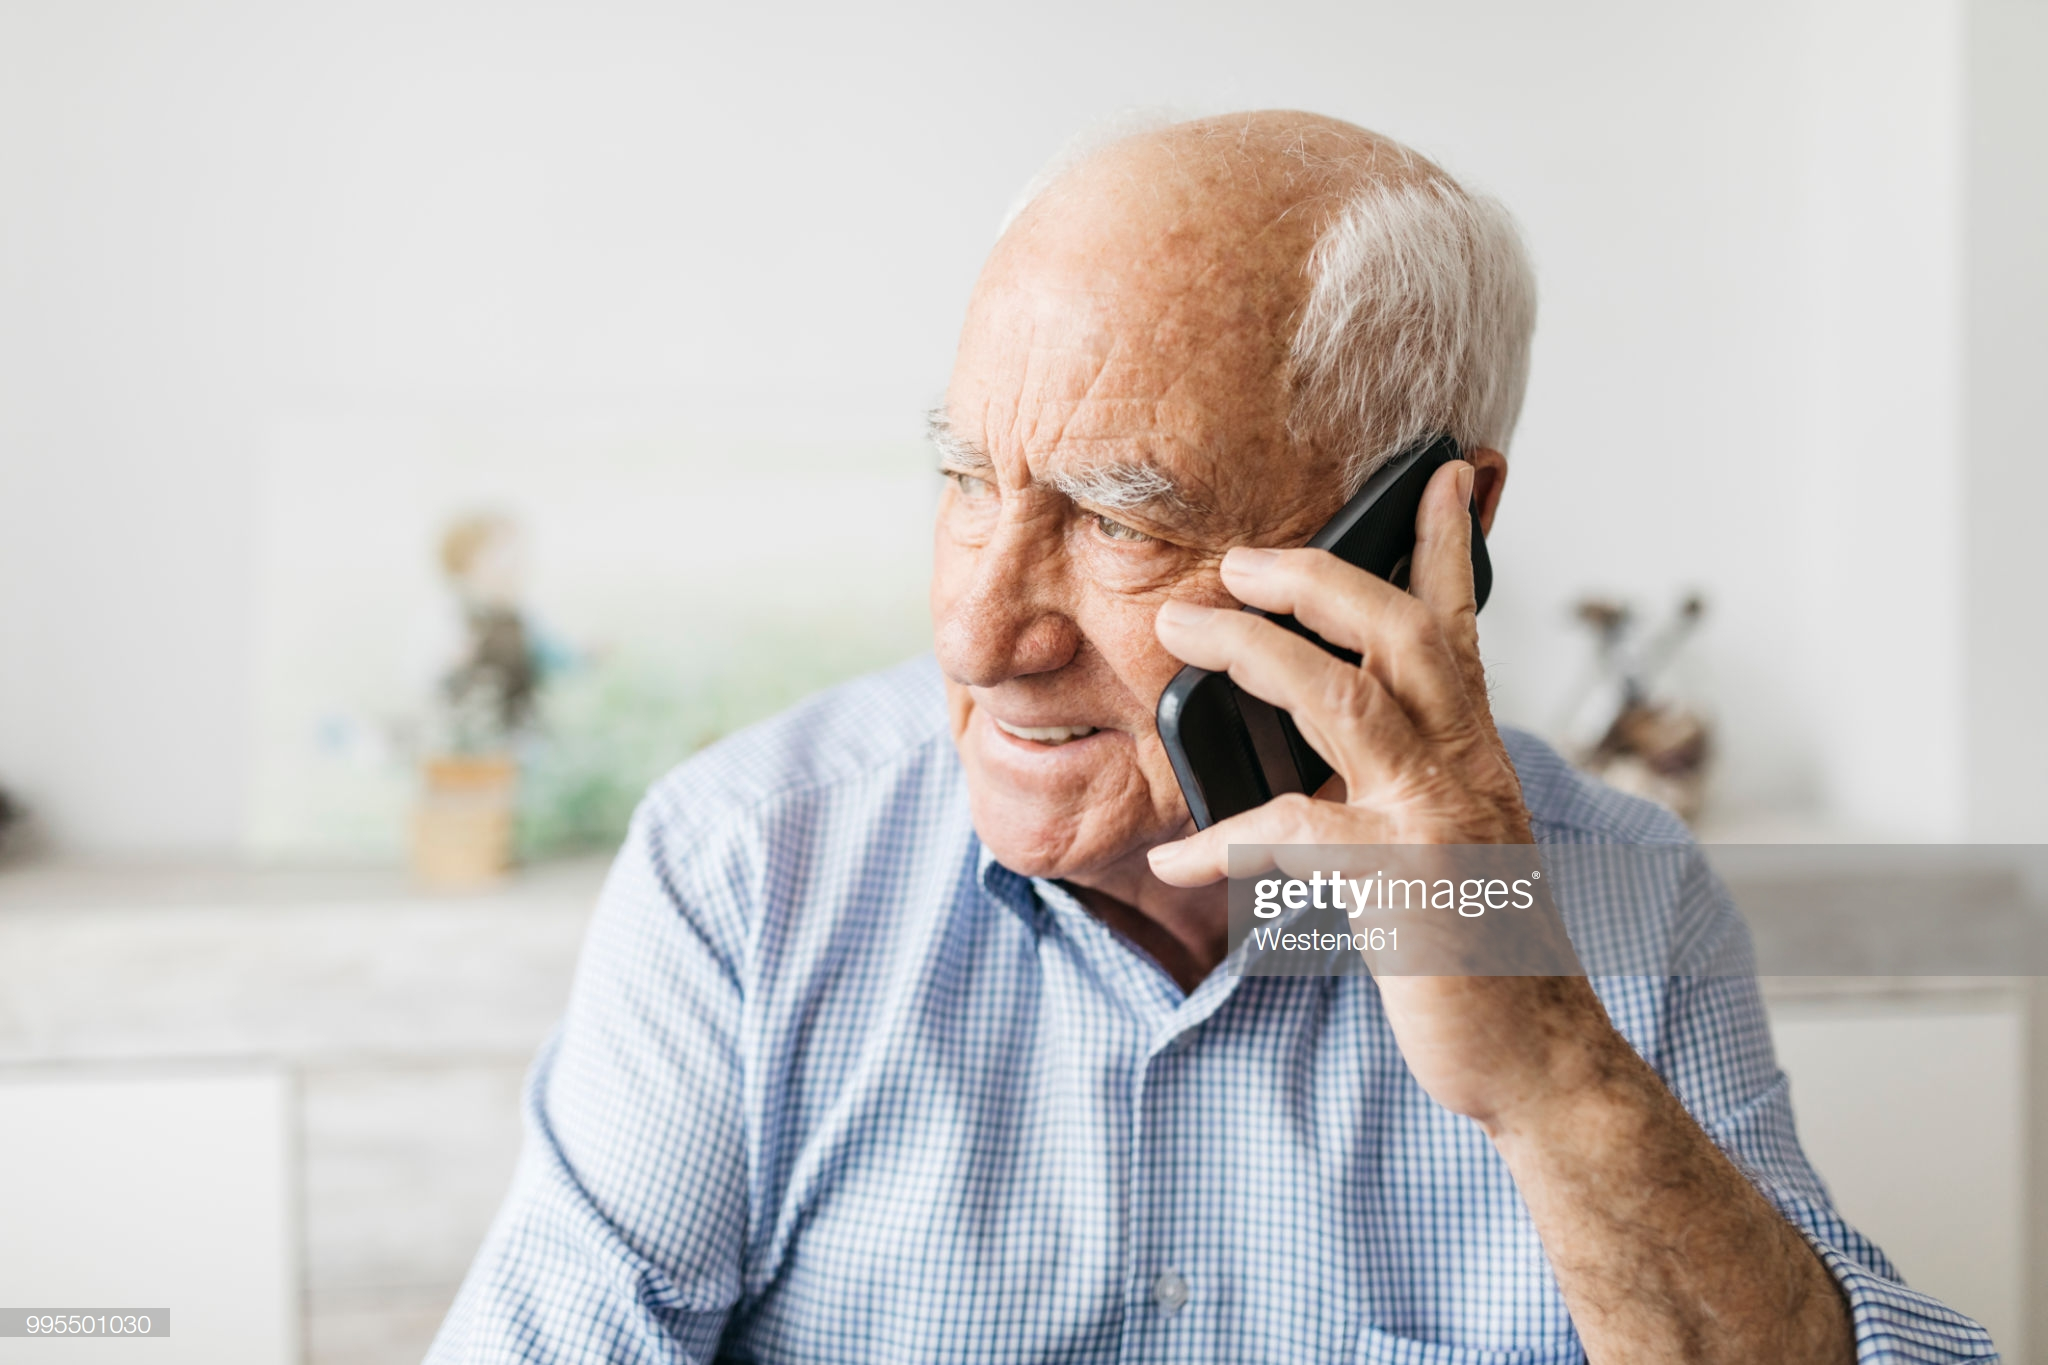phone: (1131, 382, 1526, 832)
talk: (880, 353, 1577, 1016)
